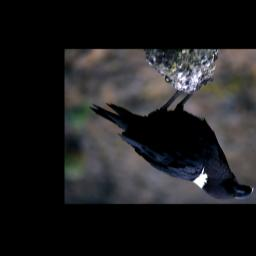Crow: (89, 75, 255, 201)
